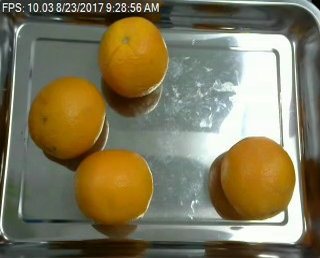Orange: (220, 136, 297, 219), (27, 77, 105, 157), (72, 149, 153, 224), (99, 17, 169, 97)
